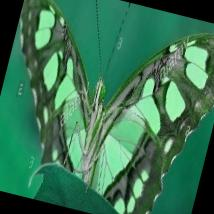butterfly: (18, 0, 214, 214)
